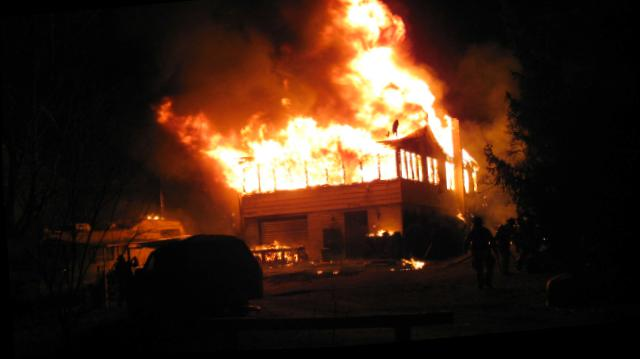fire: (199, 0, 482, 213), (251, 236, 301, 270), (398, 254, 425, 272), (367, 226, 393, 243)
